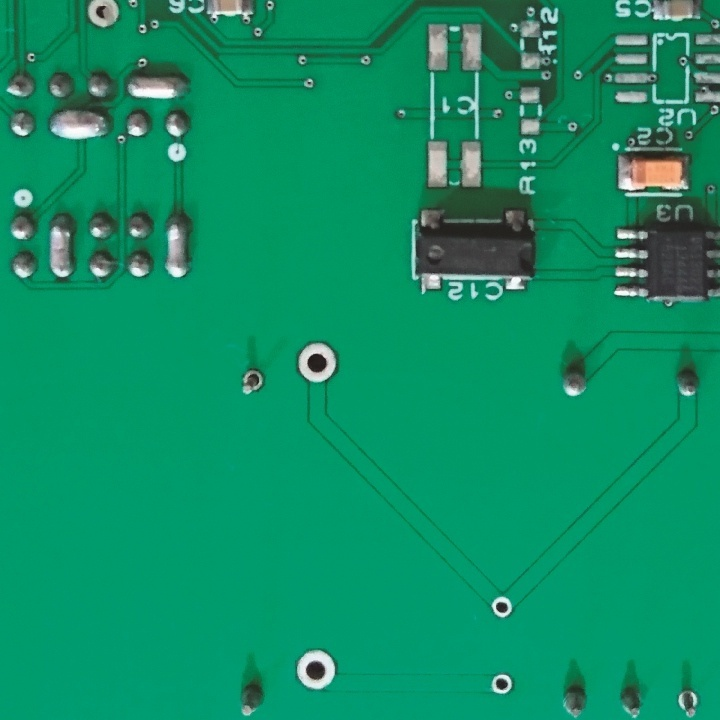F: (294, 339, 340, 389), (293, 646, 338, 694), (83, 1, 122, 33), (673, 684, 704, 720), (239, 364, 269, 400), (490, 591, 516, 620), (488, 672, 513, 700)
P: (47, 106, 113, 146), (123, 68, 191, 104), (162, 208, 194, 283), (46, 210, 77, 285)
